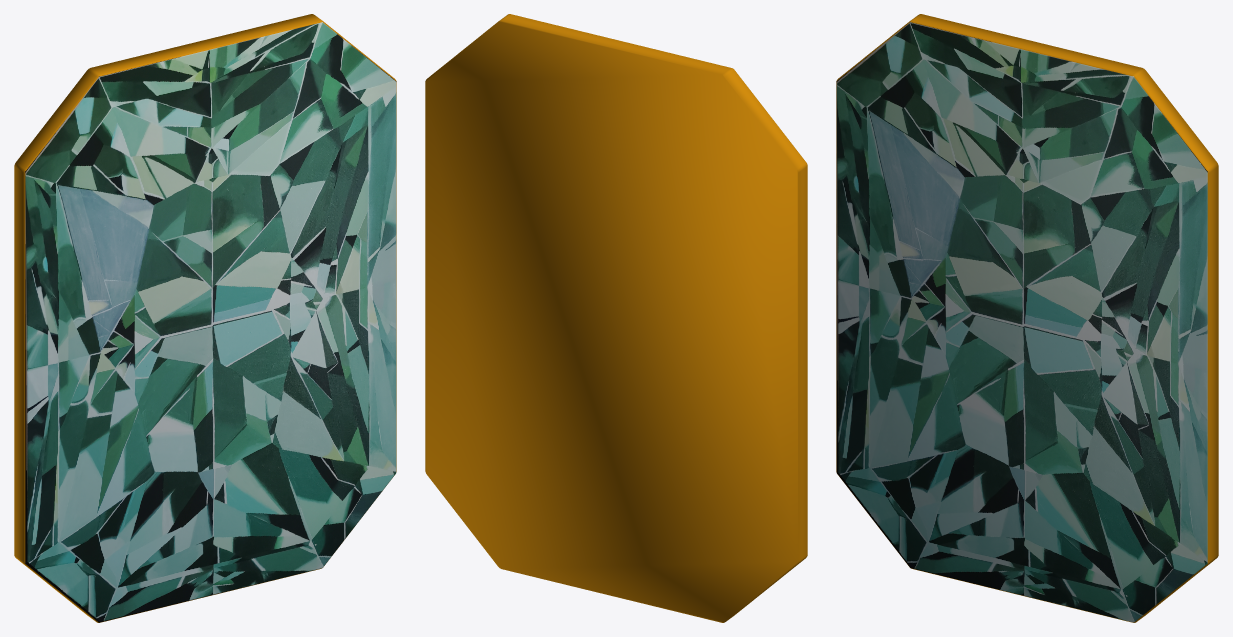
File: elisabeth.glb
3 renders of one model, left to right at view 1: azimuth 30°, elevation 25°; view 2: azimuth 150°, elevation 25°; view 3: azimuth 330°, elevation 25°, orthographic.
Parts seen in each view (by area): view 1: elisabeth; view 2: elisabeth; view 3: elisabeth.
Boxes of the visible parts, bbox=[...] form: elisabeth: bbox=[14, 14, 396, 622]; elisabeth: bbox=[425, 14, 807, 622]; elisabeth: bbox=[836, 14, 1218, 622].
Size of the model in its own units: 0.6325 by 0.8885 by 0.03.
Materials: 2 (1 with a texture image).
